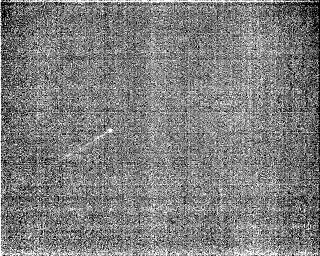AIRPLANE: (46, 127, 114, 167)
